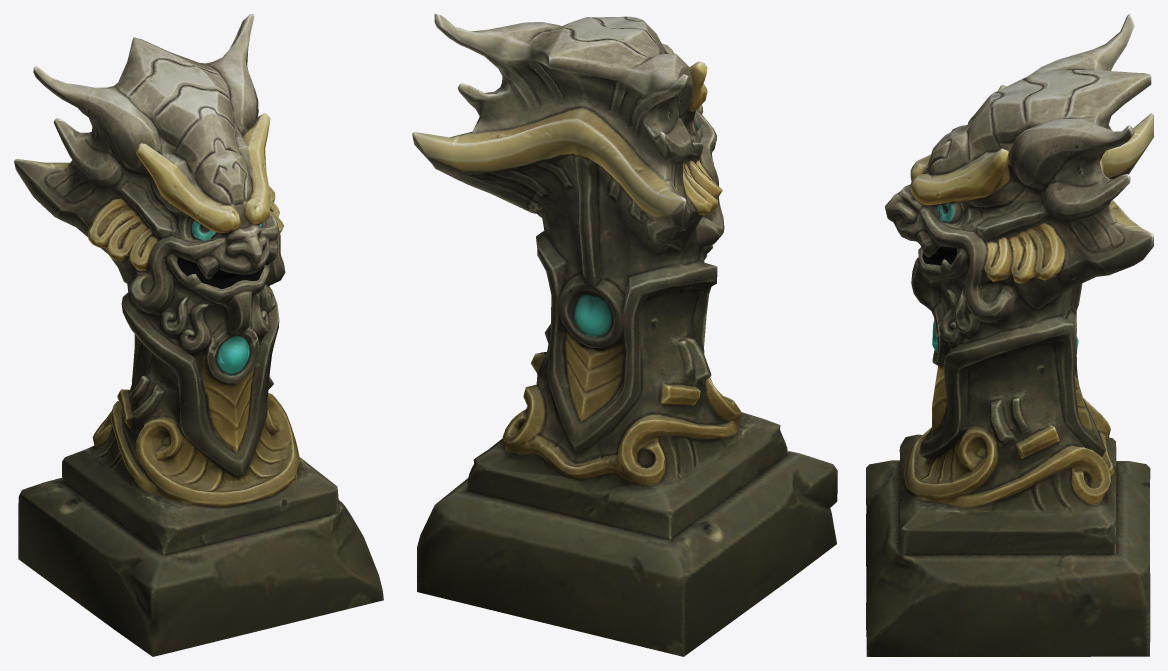
File: TowerT1.glb
3 views of the same model, side by side, from view 1: azimuth 30°, elevation 25°; view 2: azimuth 150°, elevation 25°; view 3: azimuth 270°, elevation 25° (orthographic). The views are drawn at different scales.
Visible parts, largest first — view 1: models/props_structures/tower_dragon_white.vmdl_c.tower_drag; view 2: models/props_structures/tower_dragon_white.vmdl_c.tower_drag; view 3: models/props_structures/tower_dragon_white.vmdl_c.tower_drag.
Part boxes in pixels (x1,y1,x2,y2): models/props_structures/tower_dragon_white.vmdl_c.tower_drag: (14, 14, 383, 656); models/props_structures/tower_dragon_white.vmdl_c.tower_drag: (412, 14, 837, 656); models/props_structures/tower_dragon_white.vmdl_c.tower_drag: (866, 14, 1153, 656).
Size of the model in its own units: 2.02 by 4.03 by 2.
1 material, 1 textured.
